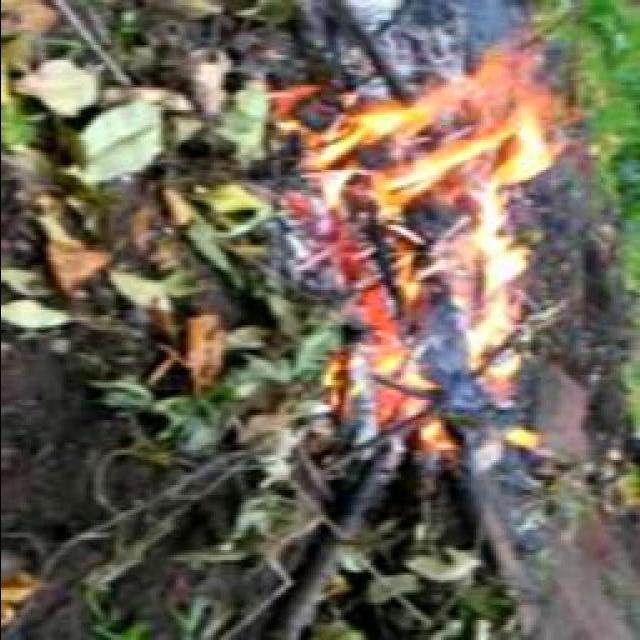Fire: (324, 33, 548, 447)
